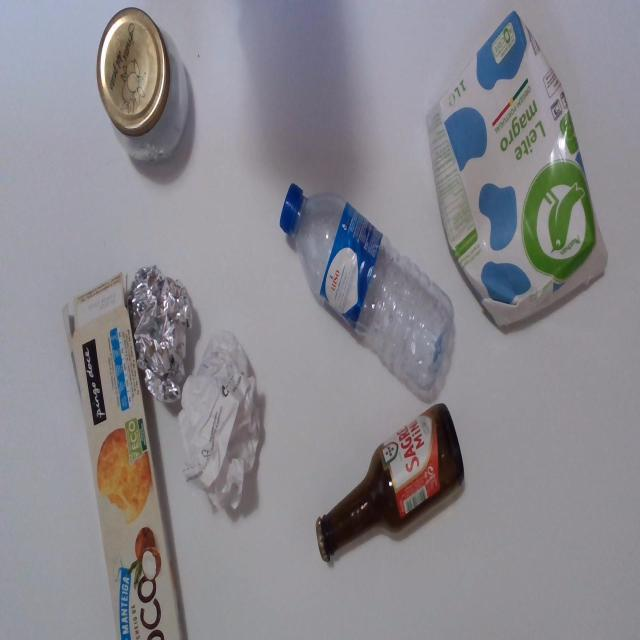Cardboard: (60, 271, 186, 640)
Glass: (315, 397, 466, 574)
Paper: (185, 337, 264, 515)
Plastic: (282, 188, 457, 391)
